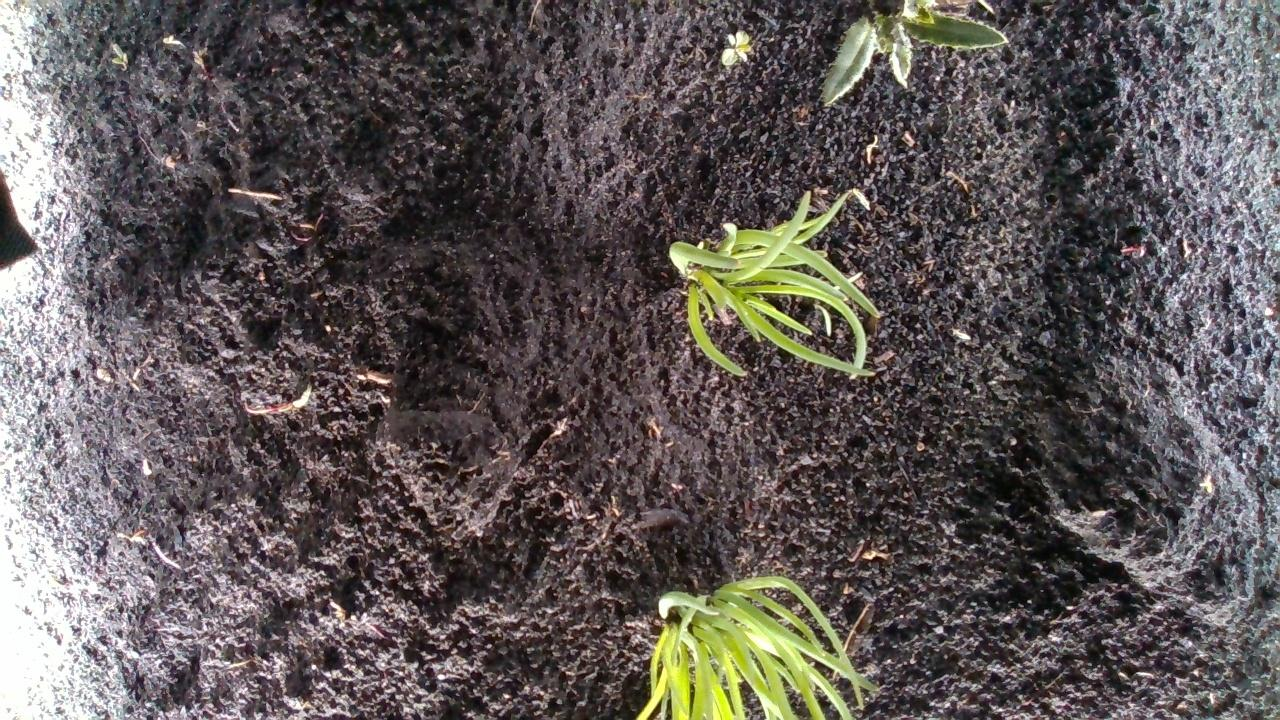weed: (720, 25, 751, 69)
